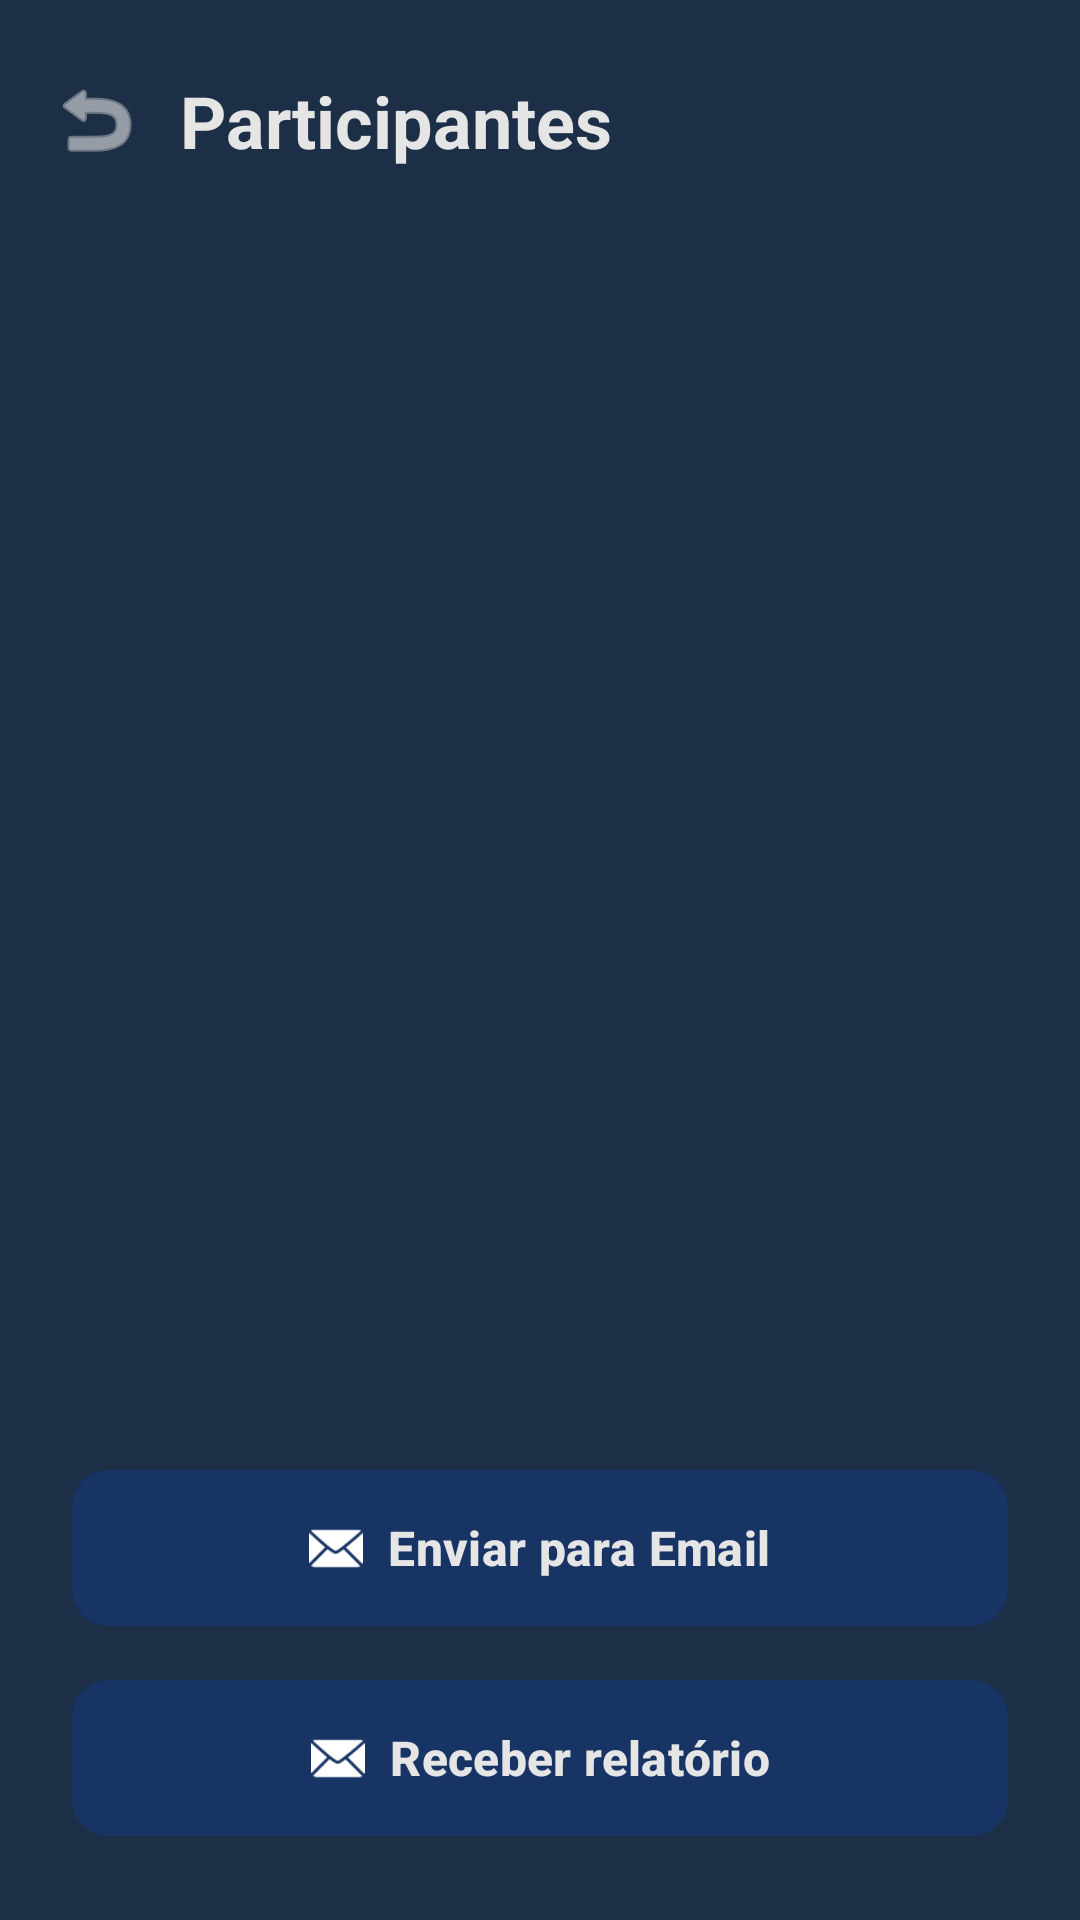

Icons on this 1080w x 1920h Android screen, each with the point to tap as (x=x, y=y):
Voltar: (x=97, y=120)
